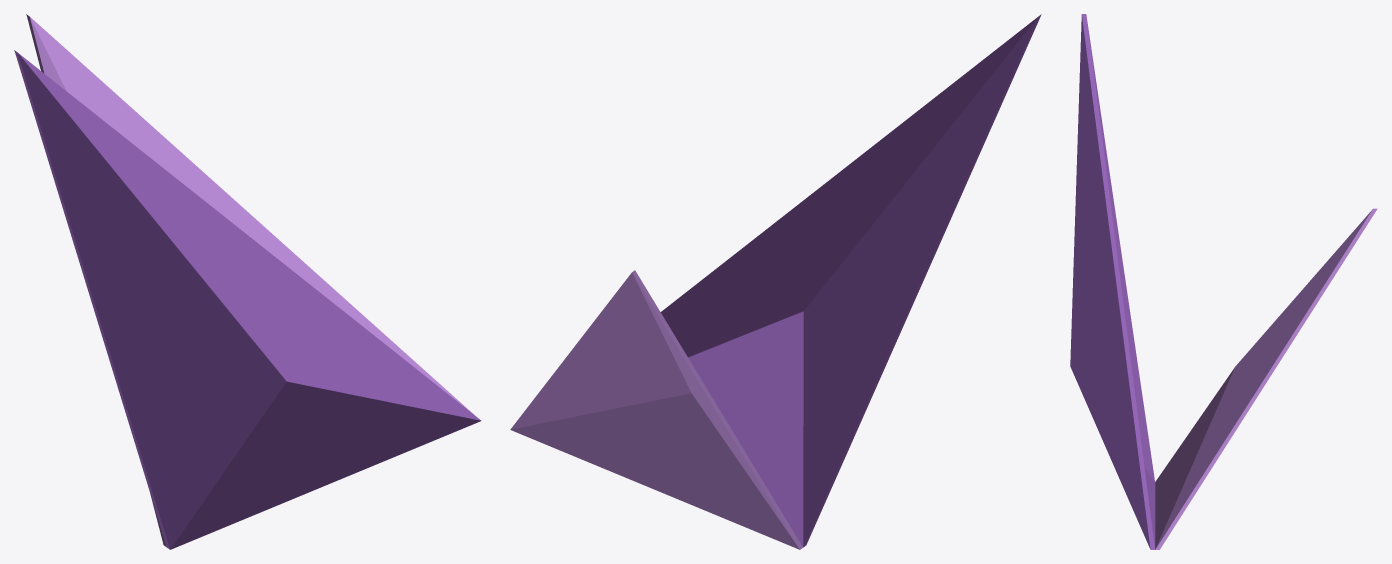
3 views of the same model, side by side, from view 1: azimuth 30°, elevation 25°; view 2: azimuth 150°, elevation 25°; view 3: azimuth 270°, elevation 25° (orthographic). The views are drawn at different scales.
Visible parts, largest first — view 1: 前后上扬折翼.001; view 2: 前后上扬折翼.001; view 3: 前后上扬折翼.001.
Part boxes in pixels (x1,y1,x2,y2): 前后上扬折翼.001: (14,14,481,549); 前后上扬折翼.001: (510,14,1041,549); 前后上扬折翼.001: (1070,14,1377,549).
Size of the model in its own units: 0.71 by 0.77 by 0.536.
